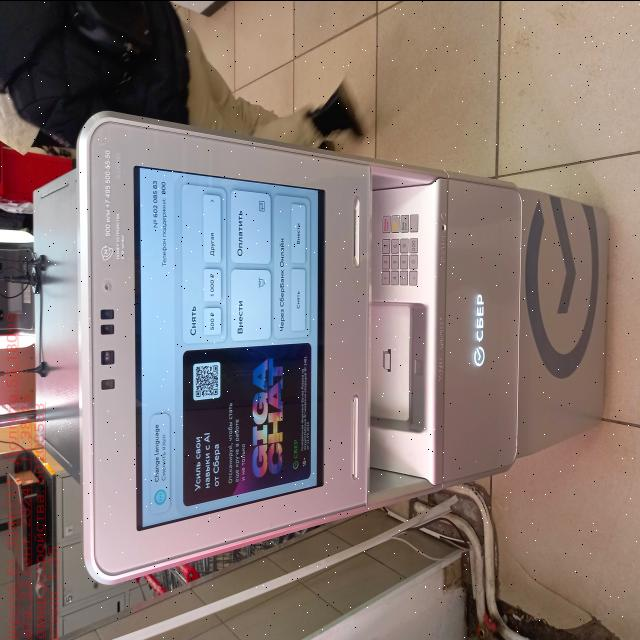bank: (24, 106, 618, 576)
